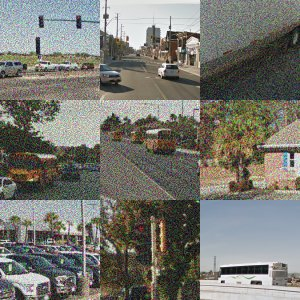汽車: (261, 230, 300, 271), (134, 28, 161, 50), (239, 224, 256, 237), (227, 221, 237, 233)
消防栓: (112, 216, 158, 294), (28, 13, 70, 84), (228, 42, 269, 100)
